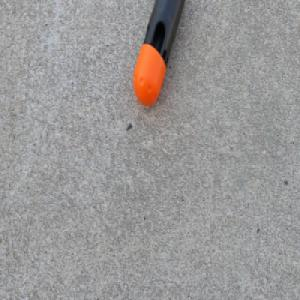PlasticPart: (131, 0, 186, 111)
